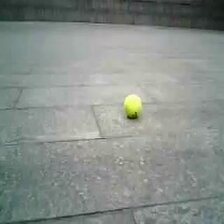tennis: (123, 94, 144, 118)
